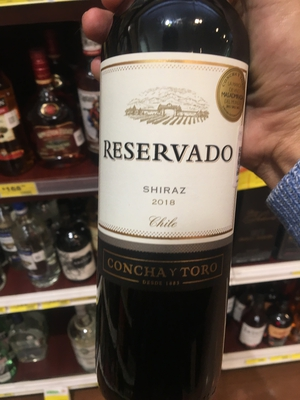reservado shiraz: (97, 15, 254, 387)
